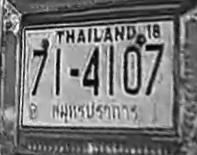0: (122, 45, 142, 94)
1: (107, 45, 114, 95), (54, 48, 60, 96)
4: (82, 46, 98, 95)
7: (144, 43, 163, 95), (31, 48, 50, 96)
SPK: (49, 99, 141, 128)
